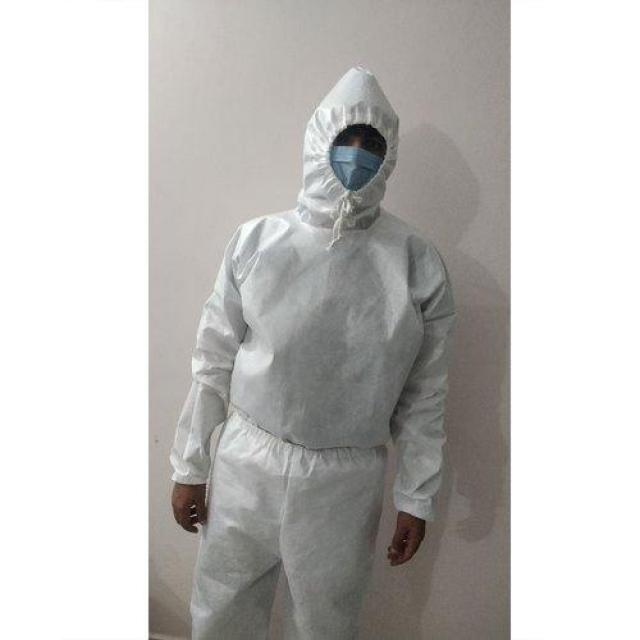Coverall: (215, 33, 481, 639)
Mask: (320, 139, 370, 201)
